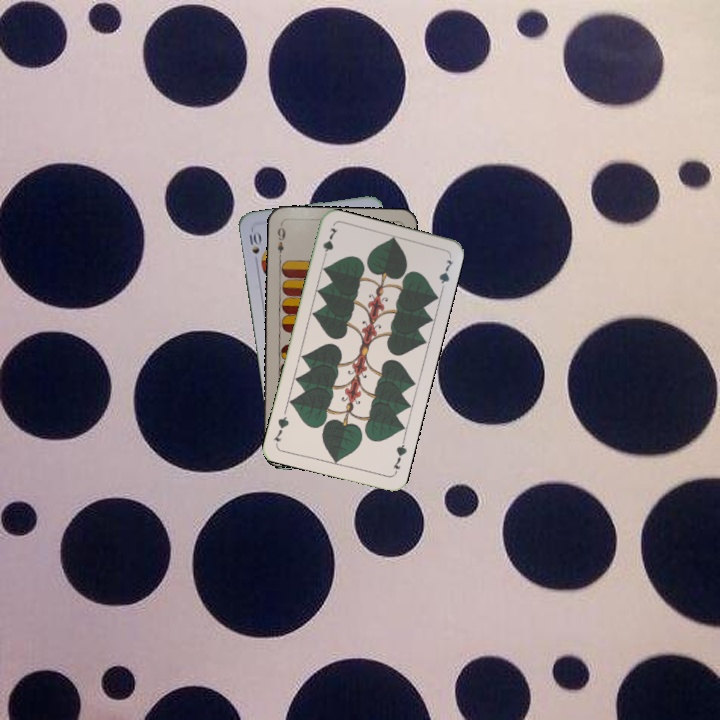E9: (273, 221, 288, 261)
G7: (318, 223, 340, 263), (389, 436, 409, 476)
S10: (245, 227, 263, 267)
